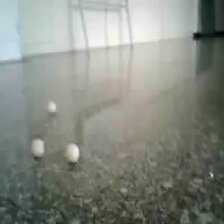tennis: (198, 130, 224, 166), (101, 86, 118, 109), (16, 72, 33, 94), (111, 61, 124, 77)
